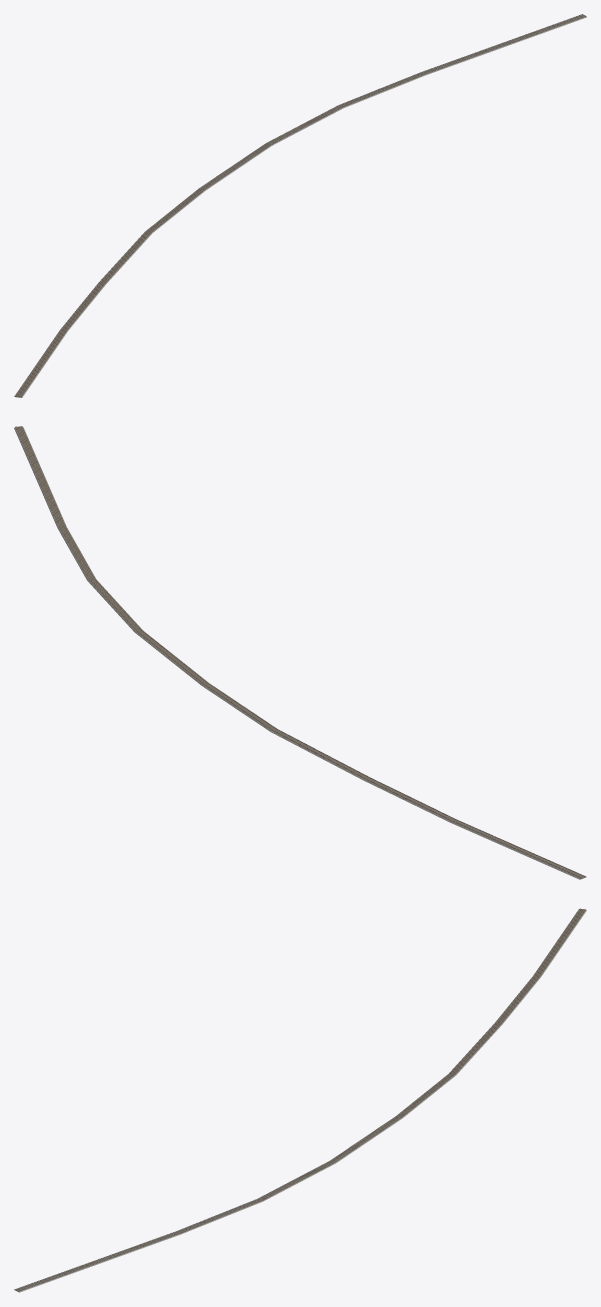
The model's file is rail_01209.glb.
3 views of the same model, one above another, from view 1: azimuth 90°, elevation 25°; view 2: azimuth 150°, elevation 25°; view 3: azimuth 270°, elevation 25° (orthographic). The views are drawn at different scales.
Parts seen in each view (by area): view 1: Sleepers, Ballast, Rails; view 2: Sleepers, Ballast, Rails; view 3: Sleepers, Ballast, Rails.
Boxes of the visible parts, x1=… form: Sleepers: x1=15, y1=14, x2=586, y2=397; Ballast: x1=14, y1=15, x2=586, y2=397; Rails: x1=16, y1=14, x2=585, y2=396; Sleepers: x1=15, y1=426, x2=585, y2=878; Ballast: x1=14, y1=427, x2=586, y2=879; Rails: x1=16, y1=426, x2=584, y2=877; Sleepers: x1=14, y1=908, x2=585, y2=1291; Ballast: x1=14, y1=909, x2=586, y2=1292; Rails: x1=15, y1=908, x2=584, y2=1290.
Size of the model in its own units: 317 by 0.48 by 200.
